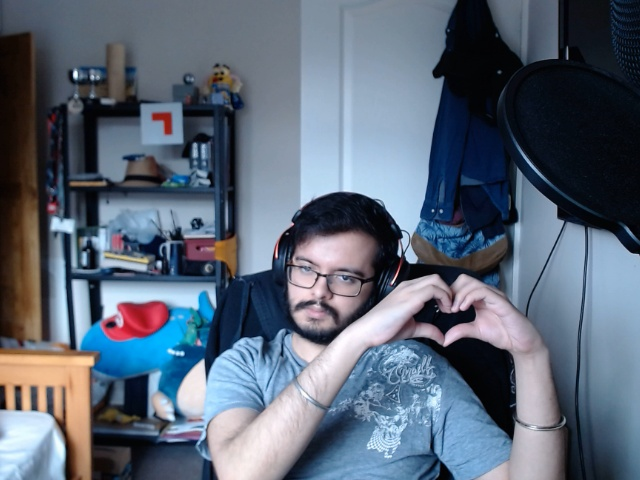Heart: (368, 273, 521, 355)
